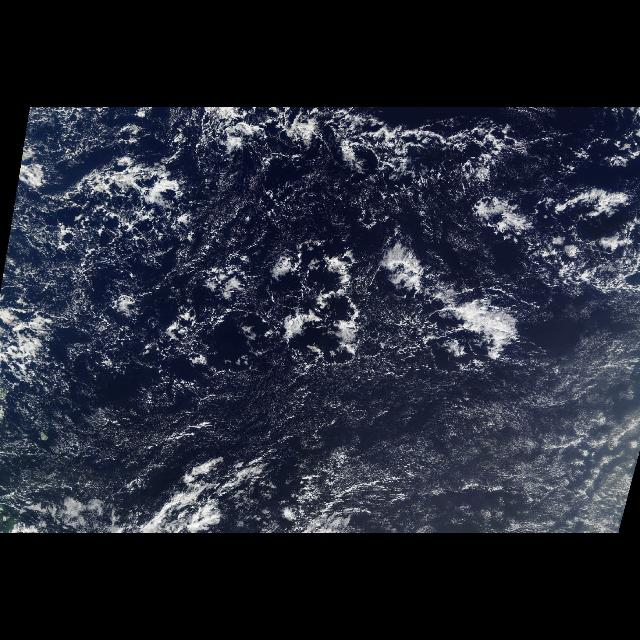Gravel: (3, 108, 551, 402)
Sugar: (12, 347, 636, 531)
